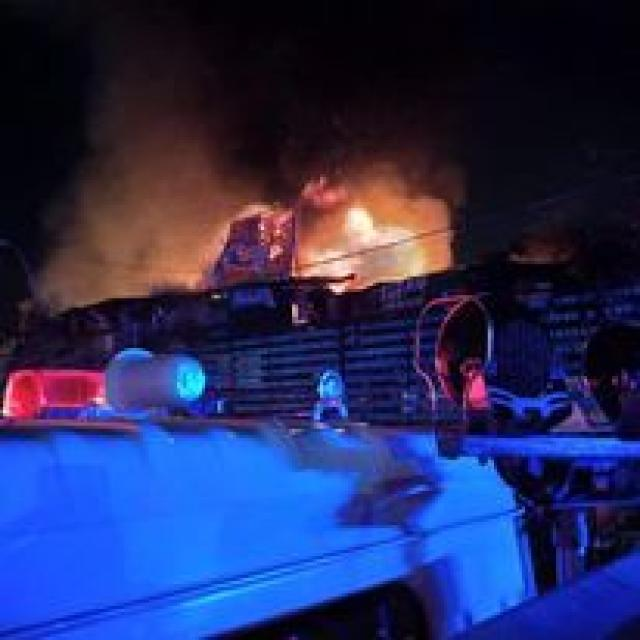Fire: (308, 214, 422, 296)
